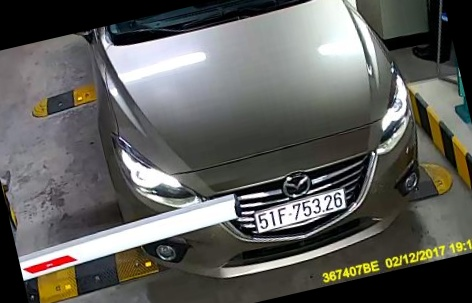plate: (252, 188, 346, 243)
